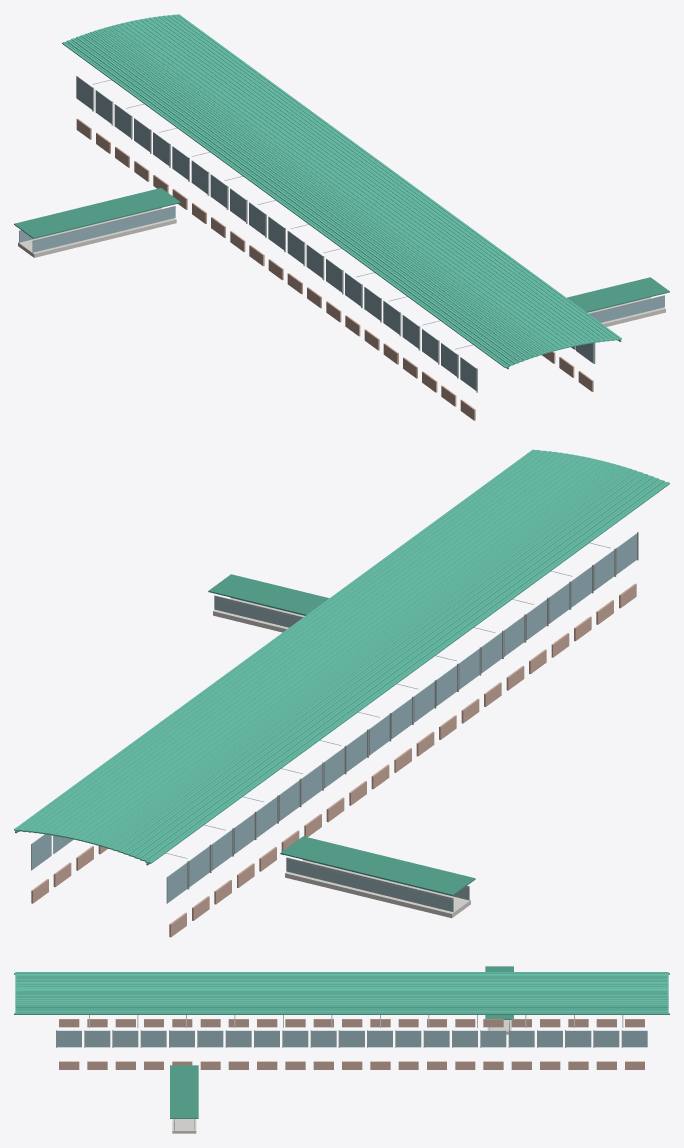
Rendered from station-12-photo-reference.glb.
3 views of the same model, one above another, from view 1: azimuth 30°, elevation 25°; view 2: azimuth 150°, elevation 25°; view 3: azimuth 270°, elevation 25° (orthographic). The views are drawn at different scales.
Visible parts, largest first — view 1: Station 12 photo-informed architecture and surroundings; view 2: Station 12 photo-informed architecture and surroundings; view 3: Station 12 photo-informed architecture and surroundings.
Part boxes in pixels (left/top/right/bottom): Station 12 photo-informed architecture and surroundings: left=14, top=14, right=669, bottom=420; Station 12 photo-informed architecture and surroundings: left=14, top=449, right=669, bottom=937; Station 12 photo-informed architecture and surroundings: left=14, top=966, right=669, bottom=1133.
Bounding box in the file's own units: 89 × 18.91 × 162.
